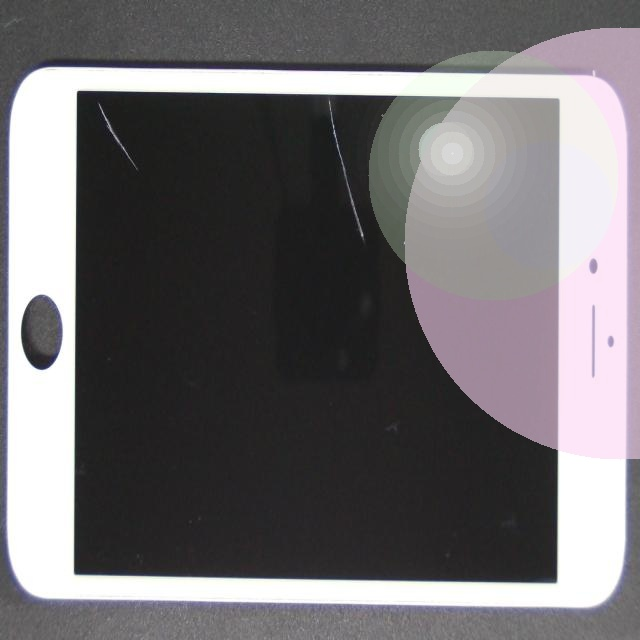scratch: (143, 0, 502, 232), (63, 127, 210, 260)
